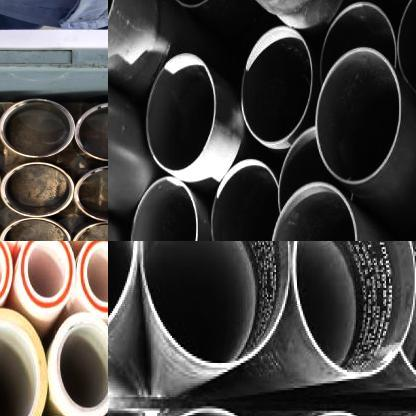pipe: (140, 241, 294, 368), (292, 241, 416, 378), (315, 47, 402, 186), (240, 26, 314, 144), (145, 52, 216, 172), (277, 126, 358, 218), (318, 1, 396, 86), (51, 312, 108, 413), (210, 157, 278, 241), (0, 307, 48, 416), (270, 182, 358, 241), (0, 97, 75, 159), (130, 176, 198, 241), (0, 161, 75, 218), (20, 241, 75, 308), (108, 241, 136, 356), (395, 0, 416, 103), (79, 241, 108, 314), (74, 101, 108, 163), (73, 164, 108, 222), (0, 216, 72, 241)
